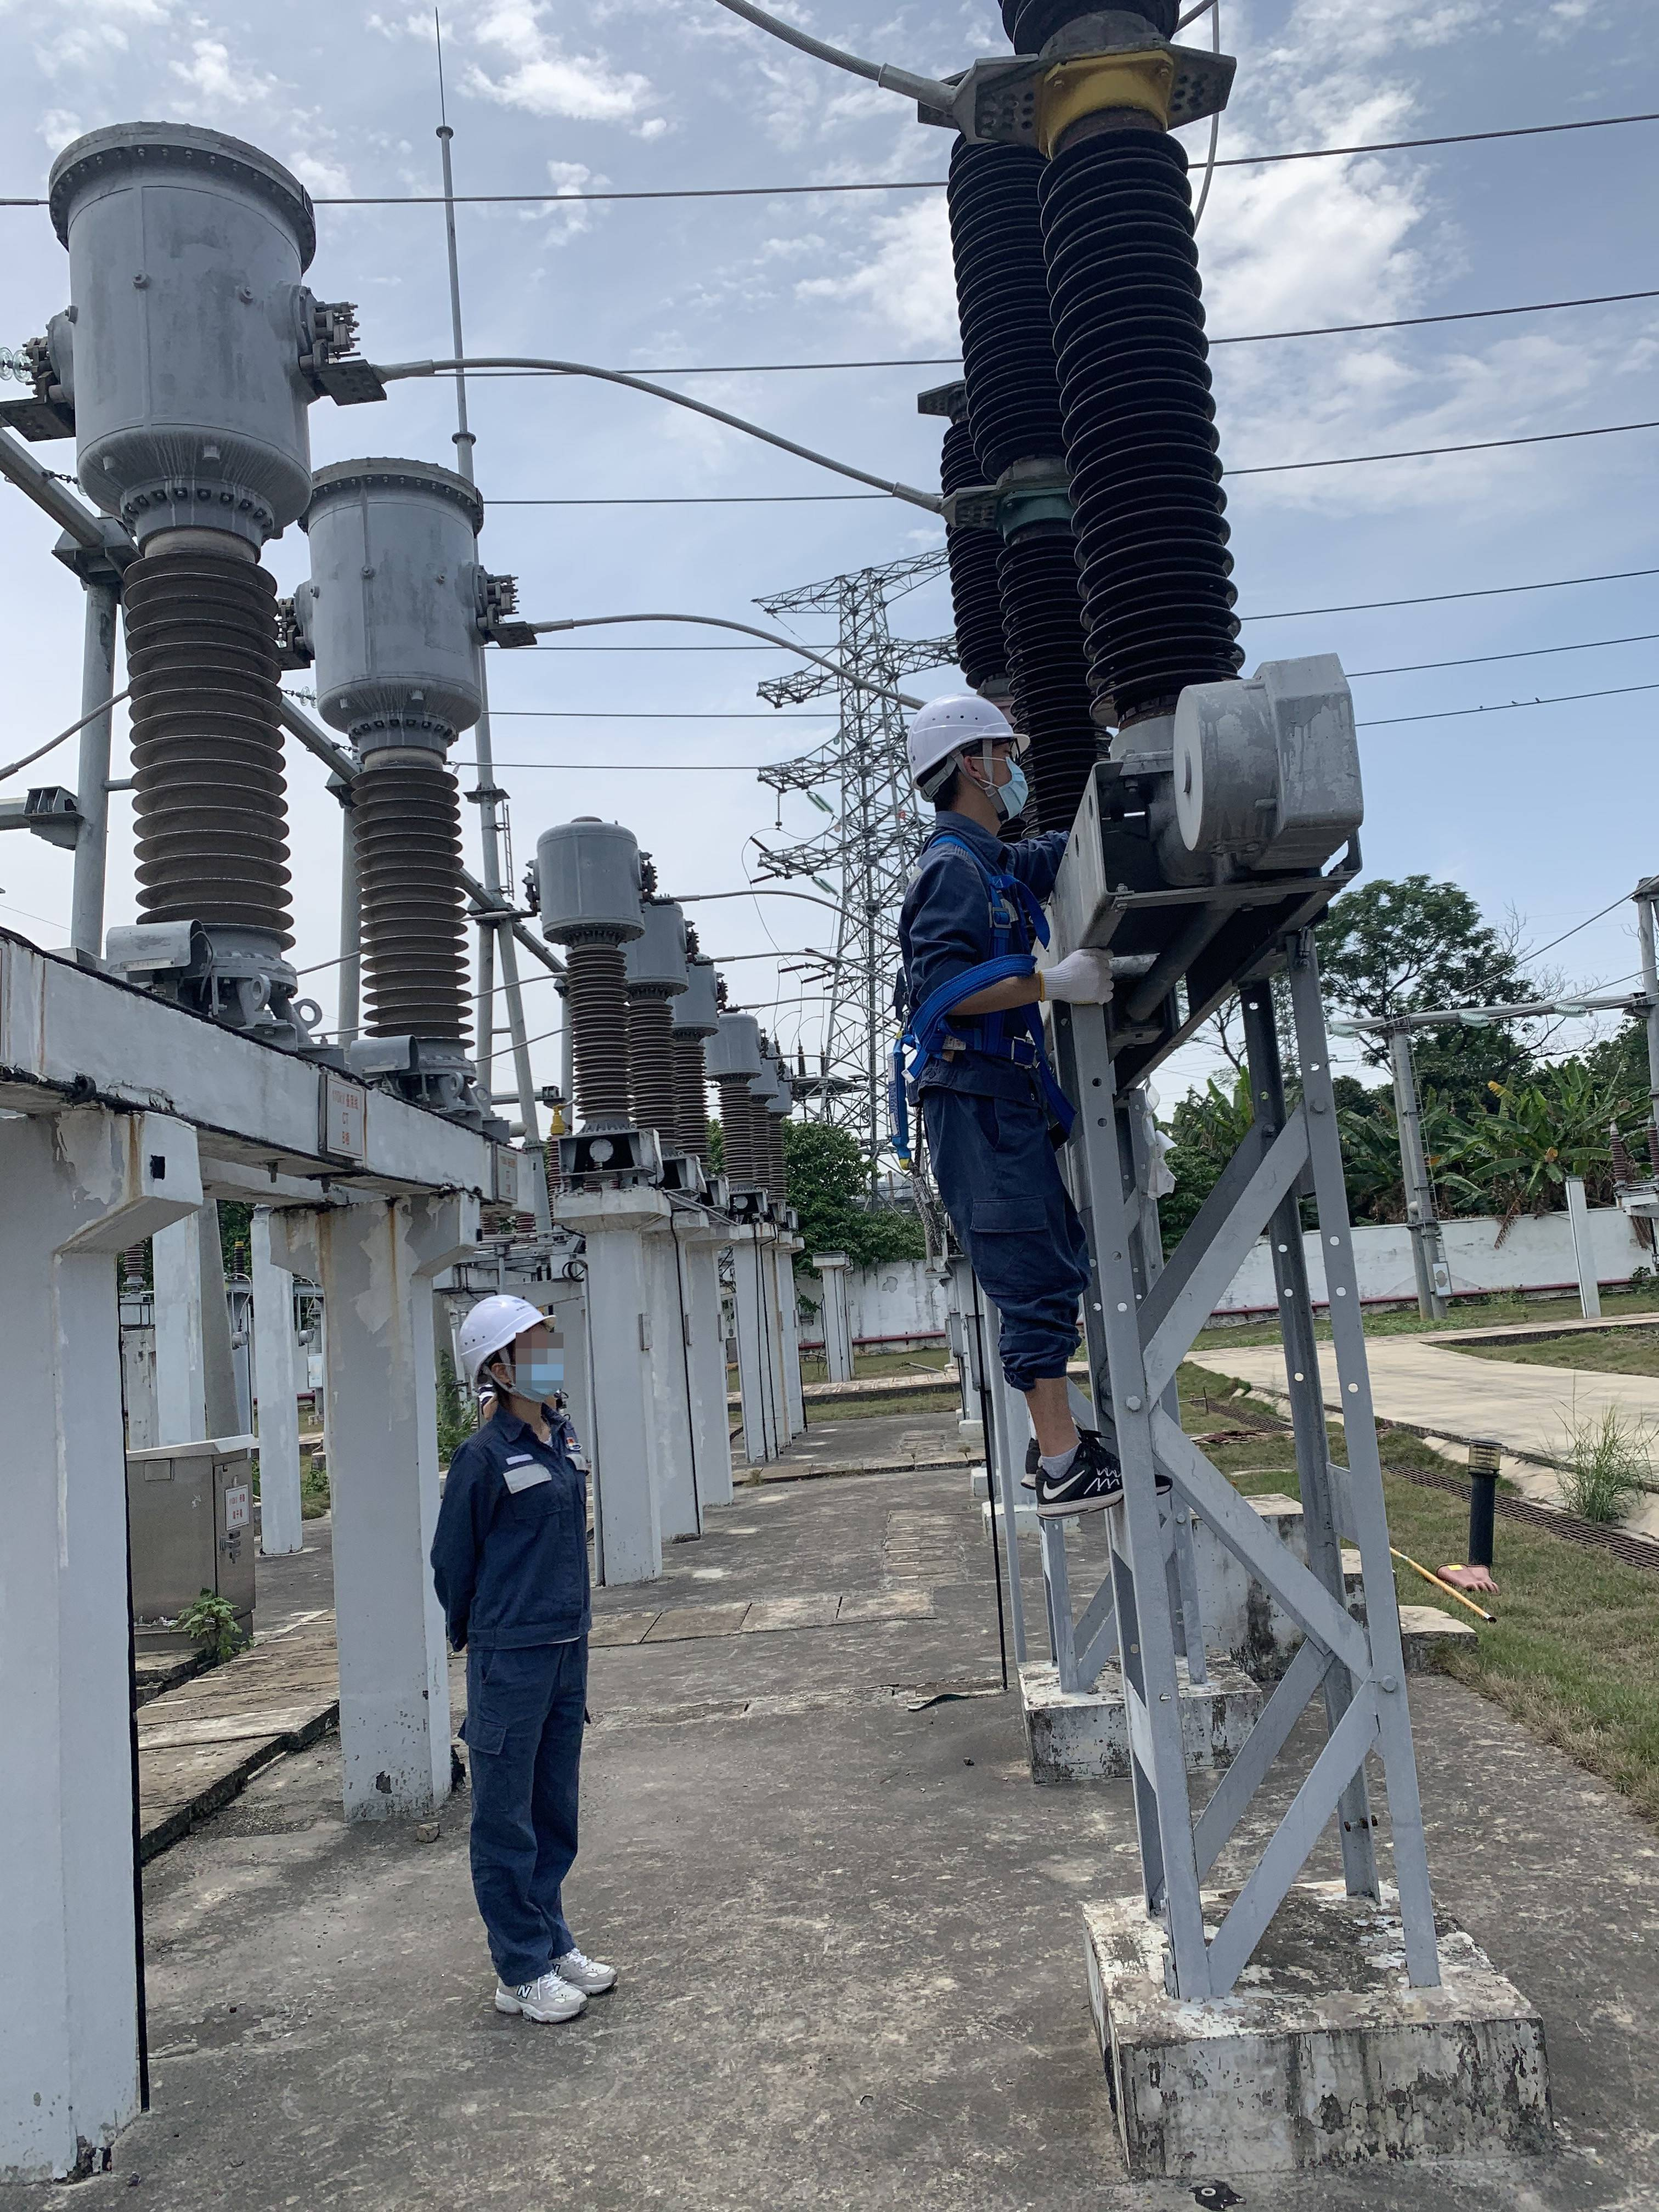downsuit: (941, 1094, 1093, 1379), (458, 1651, 592, 1968)
upsuit: (441, 1420, 601, 1634), (915, 846, 1044, 1080)
wrongbottom: (999, 1306, 1075, 1449)
